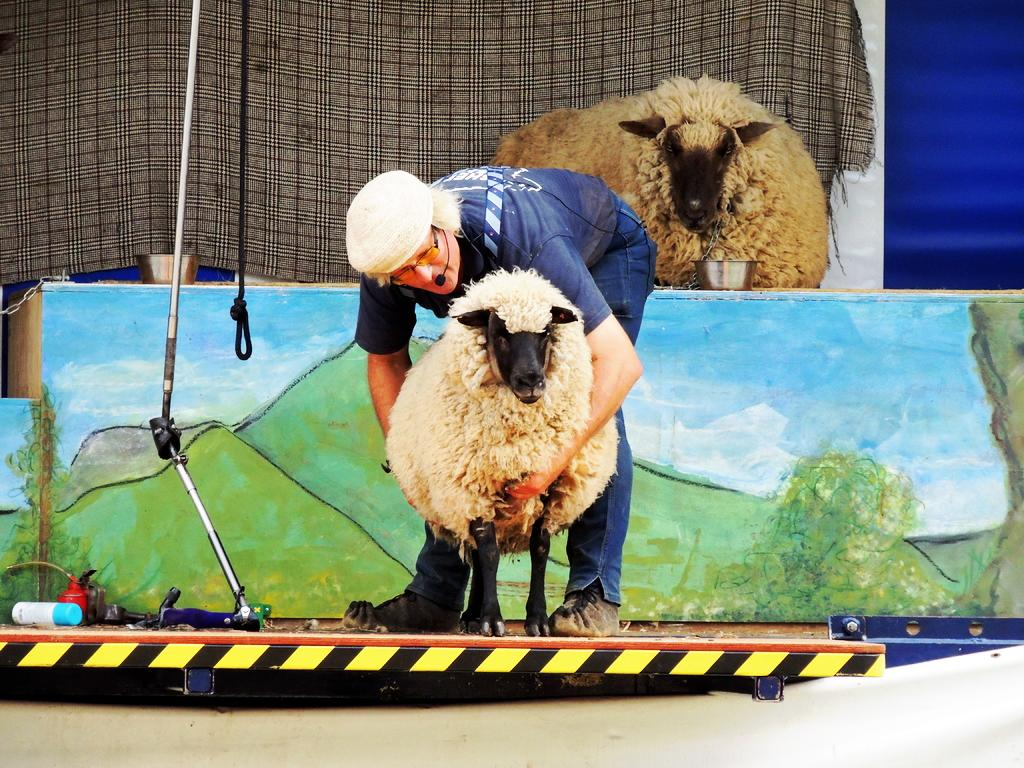Sheep: (380, 262, 638, 612), (488, 68, 832, 292)
